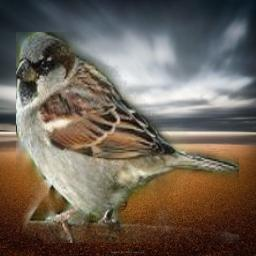Sparrow: (16, 32, 239, 243)
